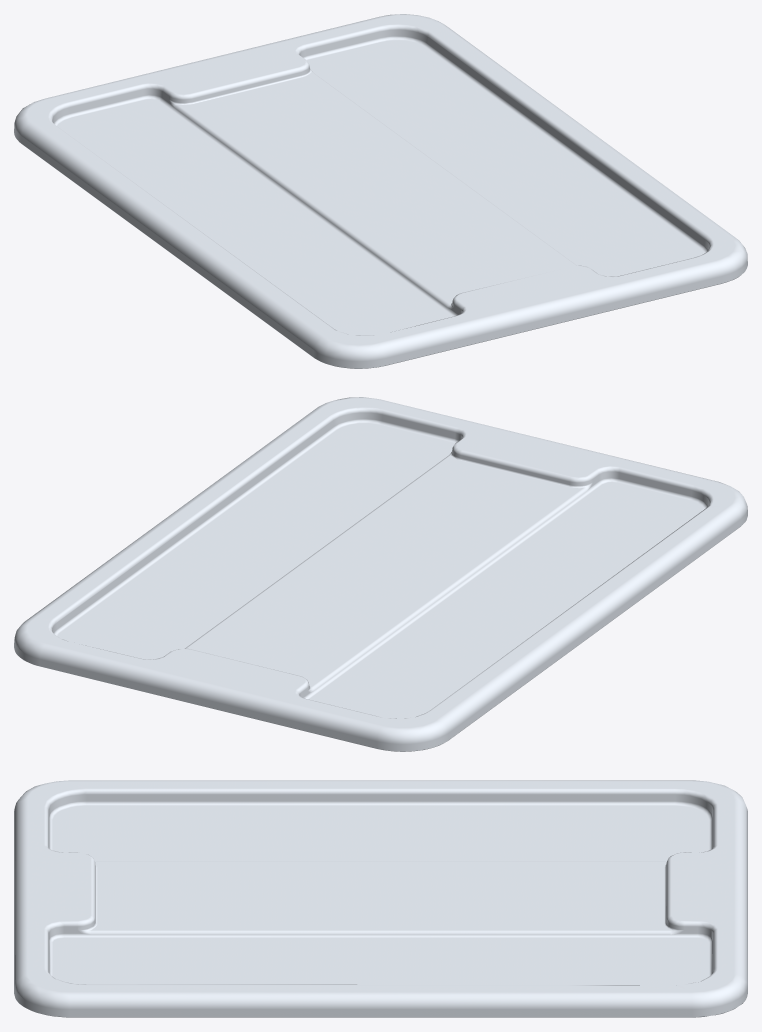
The model's file is SAMLA couvercle boîte 11-22 L transparent.glb.
3 renders of one model, top to bottom at view 1: azimuth 30°, elevation 25°; view 2: azimuth 150°, elevation 25°; view 3: azimuth 270°, elevation 25°, orthographic. The views are drawn at different scales.
Visible parts, largest first — view 1: 90455086-SAMLA001; view 2: 90455086-SAMLA001; view 3: 90455086-SAMLA001.
Boxes of the visible parts, box(x1,y1,x2,y2) form: 90455086-SAMLA001: box(14, 14, 747, 368); 90455086-SAMLA001: box(14, 397, 747, 751); 90455086-SAMLA001: box(14, 780, 747, 1017).
Size of the model in its own units: 0.2817 by 0.0121 by 0.3936.
1 material, 1 textured.
